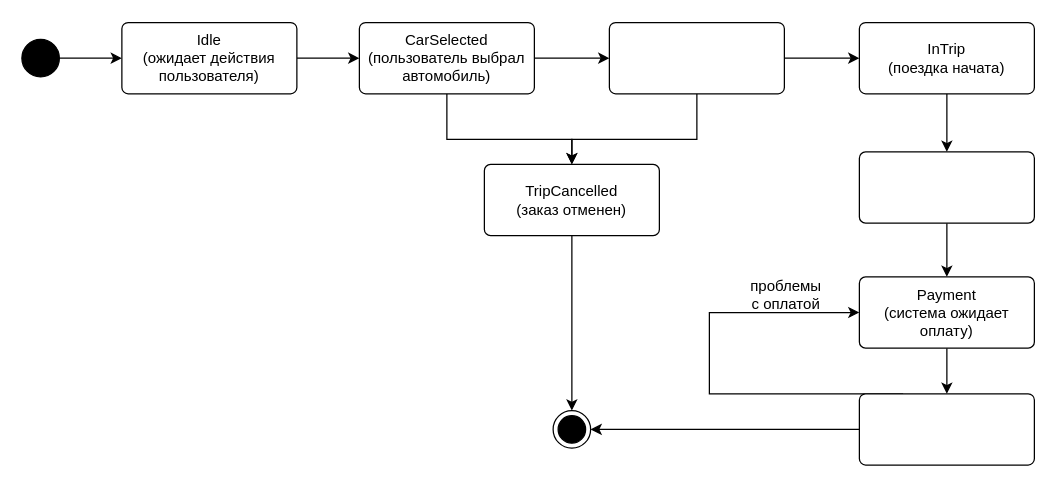
Image size: 1056x486. Some labels were removed from this diagram. Each missing label, with the centre of its shape:
"OrderConfirmed (заказ подтвержден)" goes at [696,57].
"Paid (оплата завершена)" goes at [946,428].
"TripCompleted (поездка завершена)" goes at [946,187].
